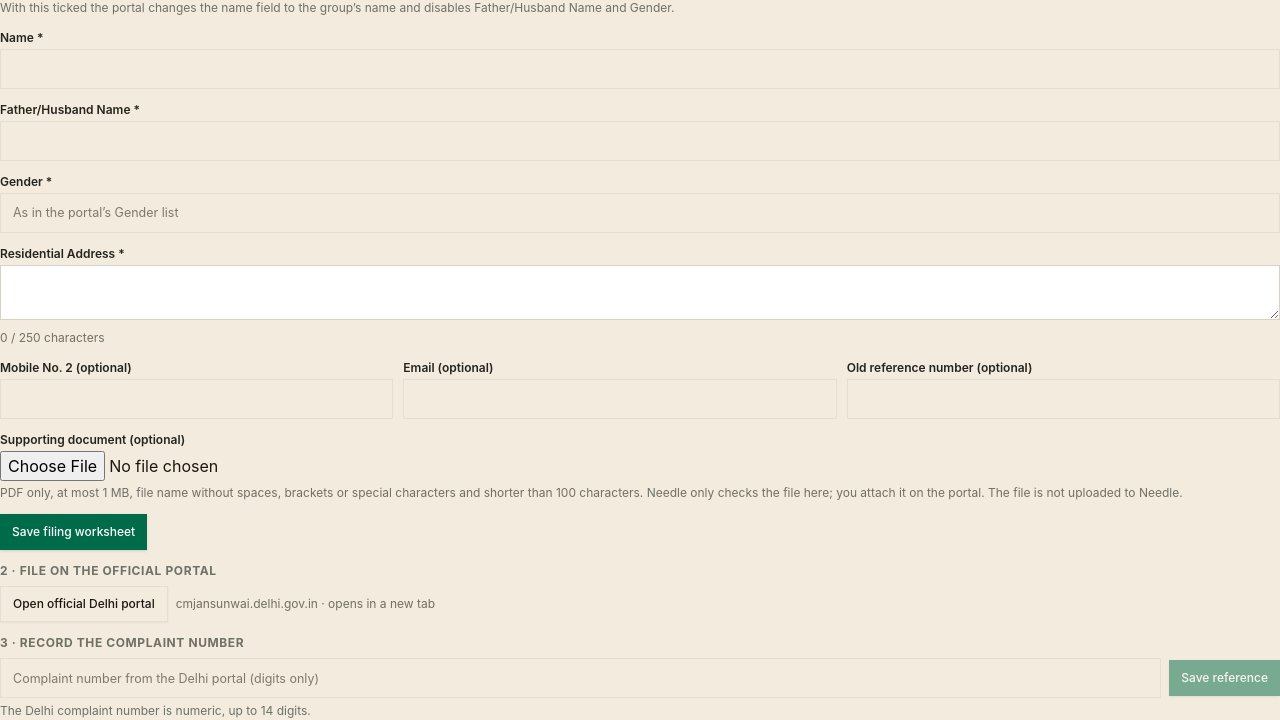
it: DelhiManualReferencePanel › shows success only after the backend confirms, then notifies once
(page scrolled)
Type "20260000009" into the field named "Delhi portal reference number" at point(581, 678), box [0,658,1161,698]
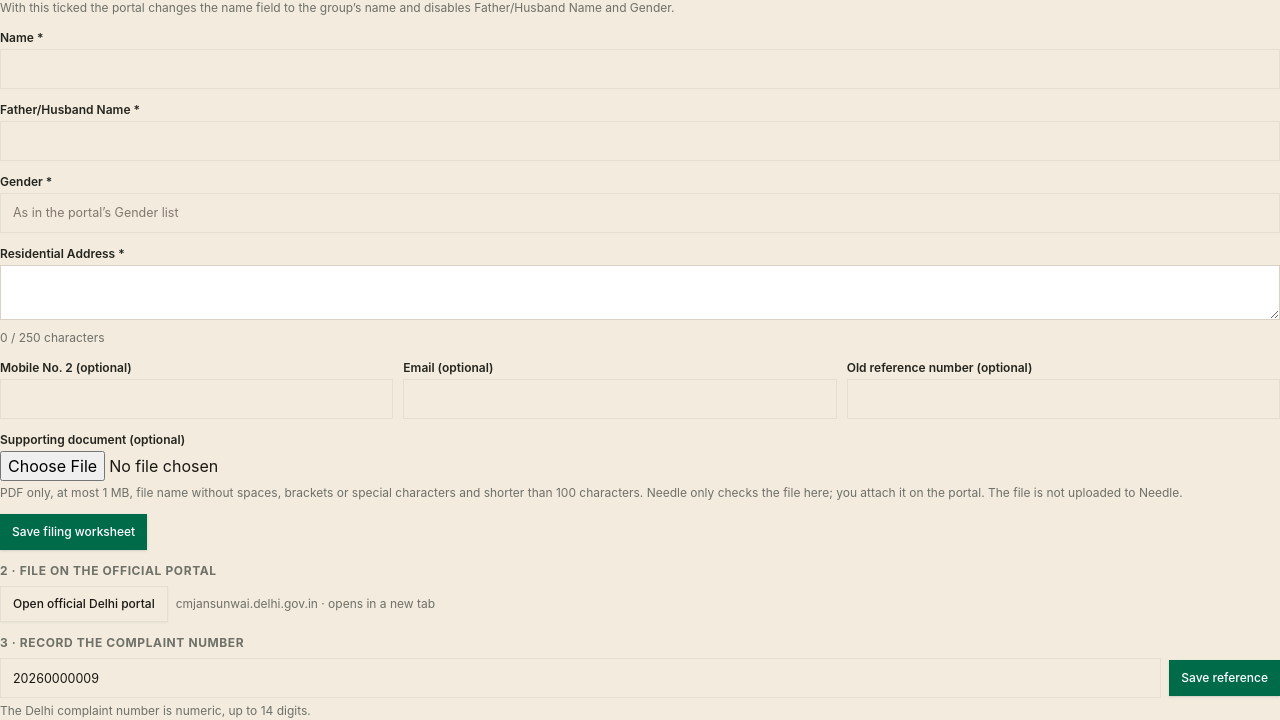
Click the button "Save reference" at point(1225, 678), box [1169,660,1279,696]
(page scrolled)
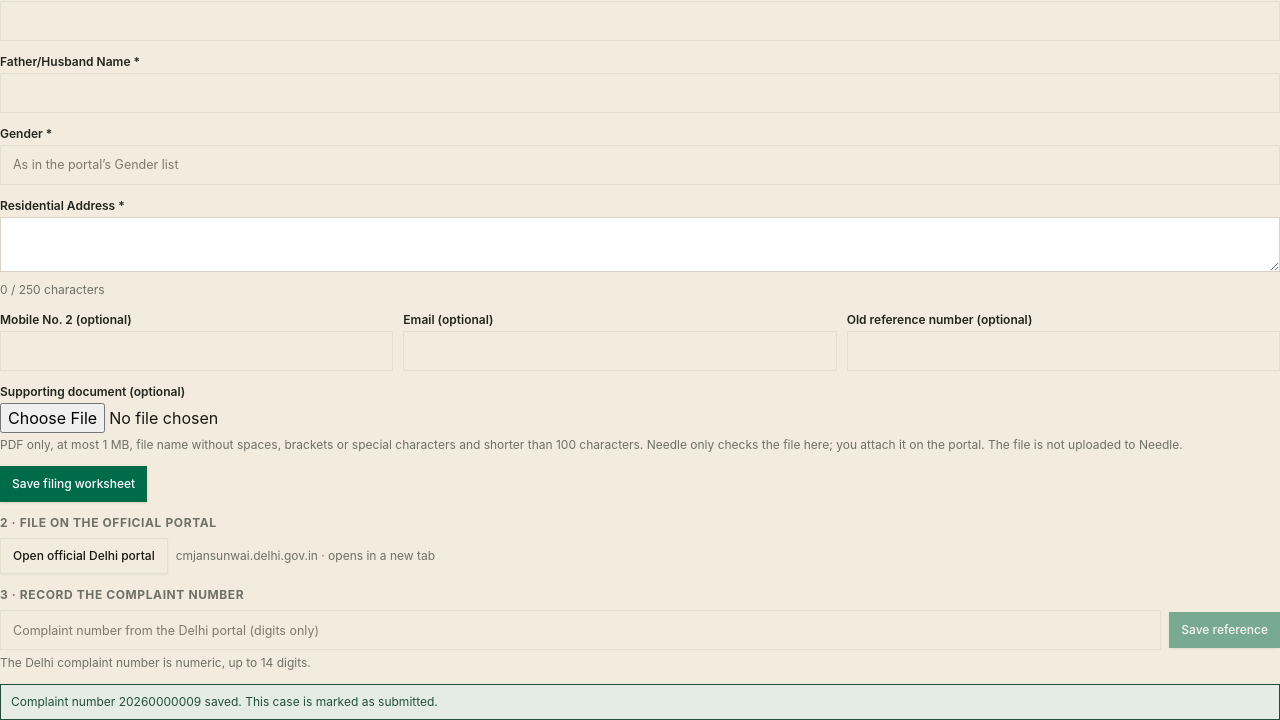
Expected: the text "Complaint number 20260000009 saved. This case is marked as submitted." is shown, [0,684,1279,719]
